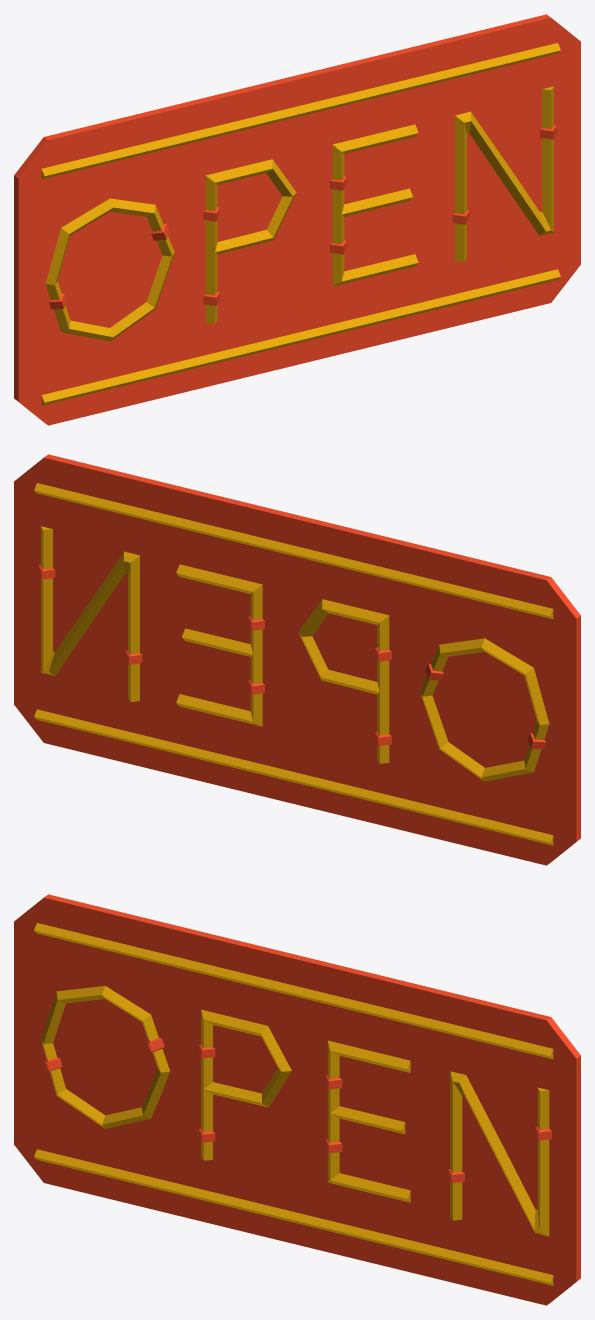
Rendered from SM_Neon_Open_City.fbx.
3 views of the same model, one above another, from view 1: azimuth 30°, elevation 25°; view 2: azimuth 150°, elevation 25°; view 3: azimuth 330°, elevation 25° (orthographic).
Parts seen in each view (by area): view 1: SM_Neon_Open_City; view 2: SM_Neon_Open_City; view 3: SM_Neon_Open_City.
Part boxes in pixels (left/top/right/bottom): SM_Neon_Open_City: left=14, top=14, right=580, bottom=425; SM_Neon_Open_City: left=14, top=454, right=580, bottom=865; SM_Neon_Open_City: left=14, top=894, right=580, bottom=1305.
Size of the model in its own units: 1.5 by 0.7247 by 0.0688.
